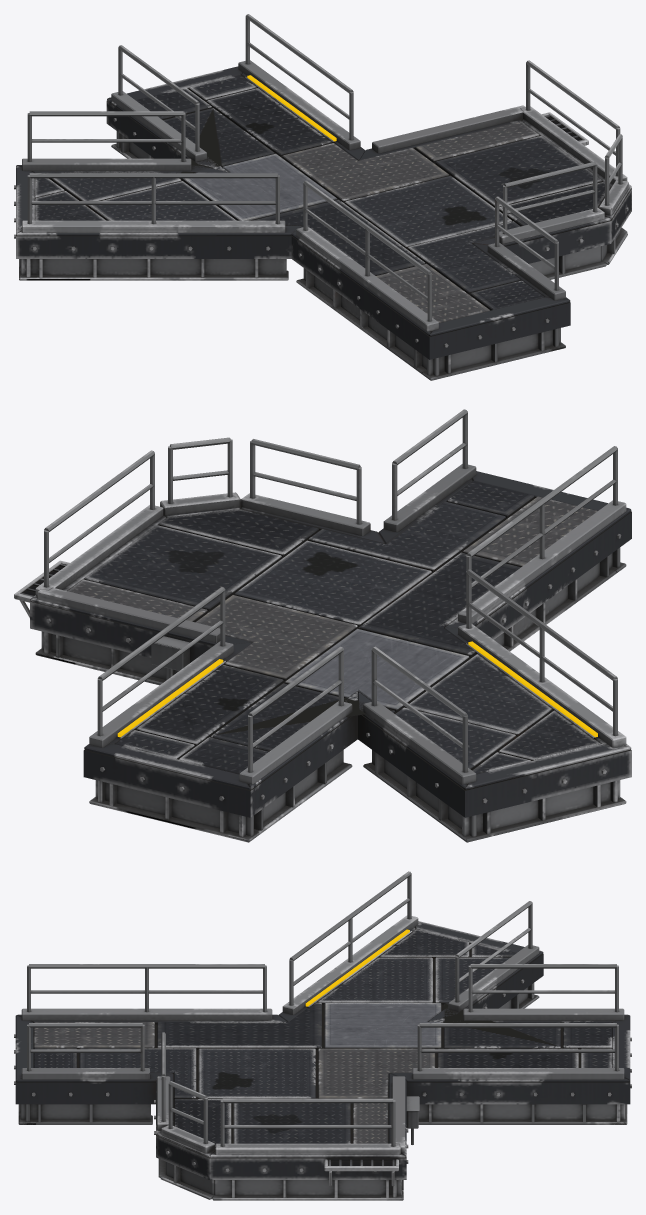
The model's file is nodexeus-set-deck-s5.glb.
The picture shows the model from 3 angles, top to bottom: view 1: azimuth 30°, elevation 25°; view 2: azimuth 150°, elevation 25°; view 3: azimuth 270°, elevation 25°; orthographic projection. The views are drawn at different scales.
Parts seen in each view (by area): view 1: set-deck-s5; view 2: set-deck-s5; view 3: set-deck-s5.
Boxes of the visible parts, x1,y1,x2,y2 form: set-deck-s5: (14,14,631,380); set-deck-s5: (14,409,631,842); set-deck-s5: (14,871,631,1200).
Bounding box in the file's own units: 9.74 × 1.84 × 10.35.
1 material, 1 textured.
